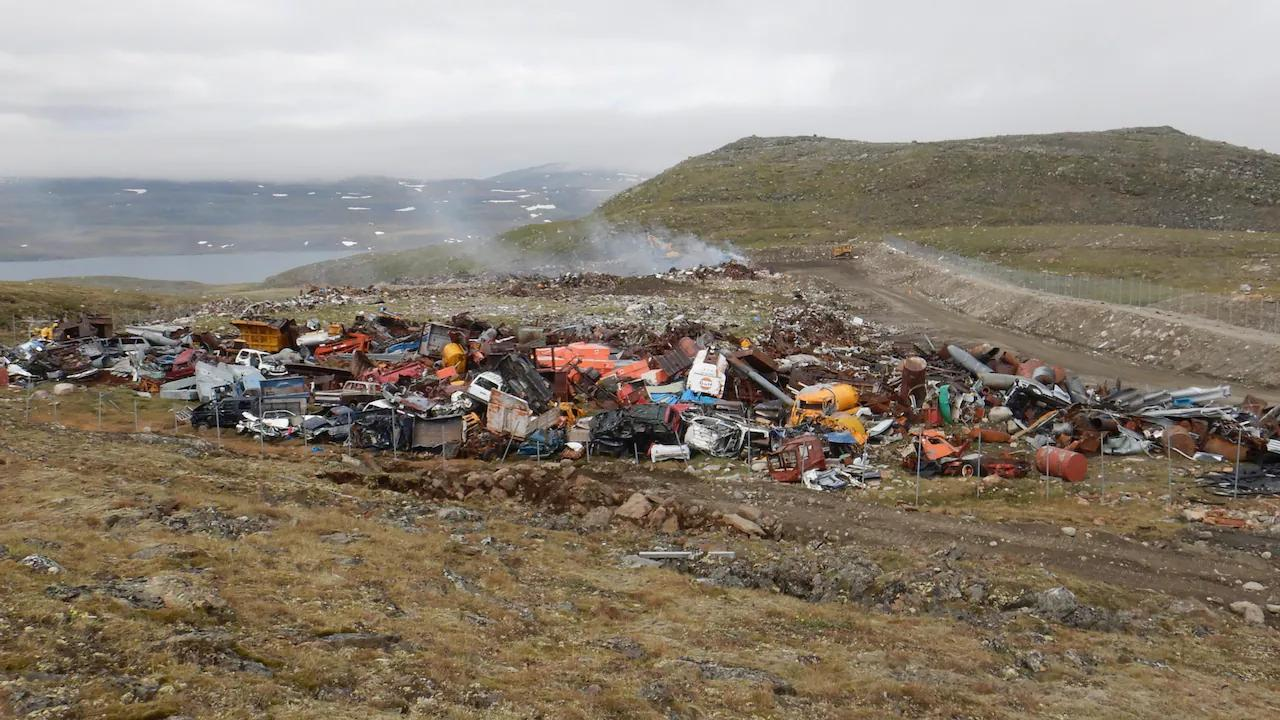garbage: (0, 269, 1280, 480)
